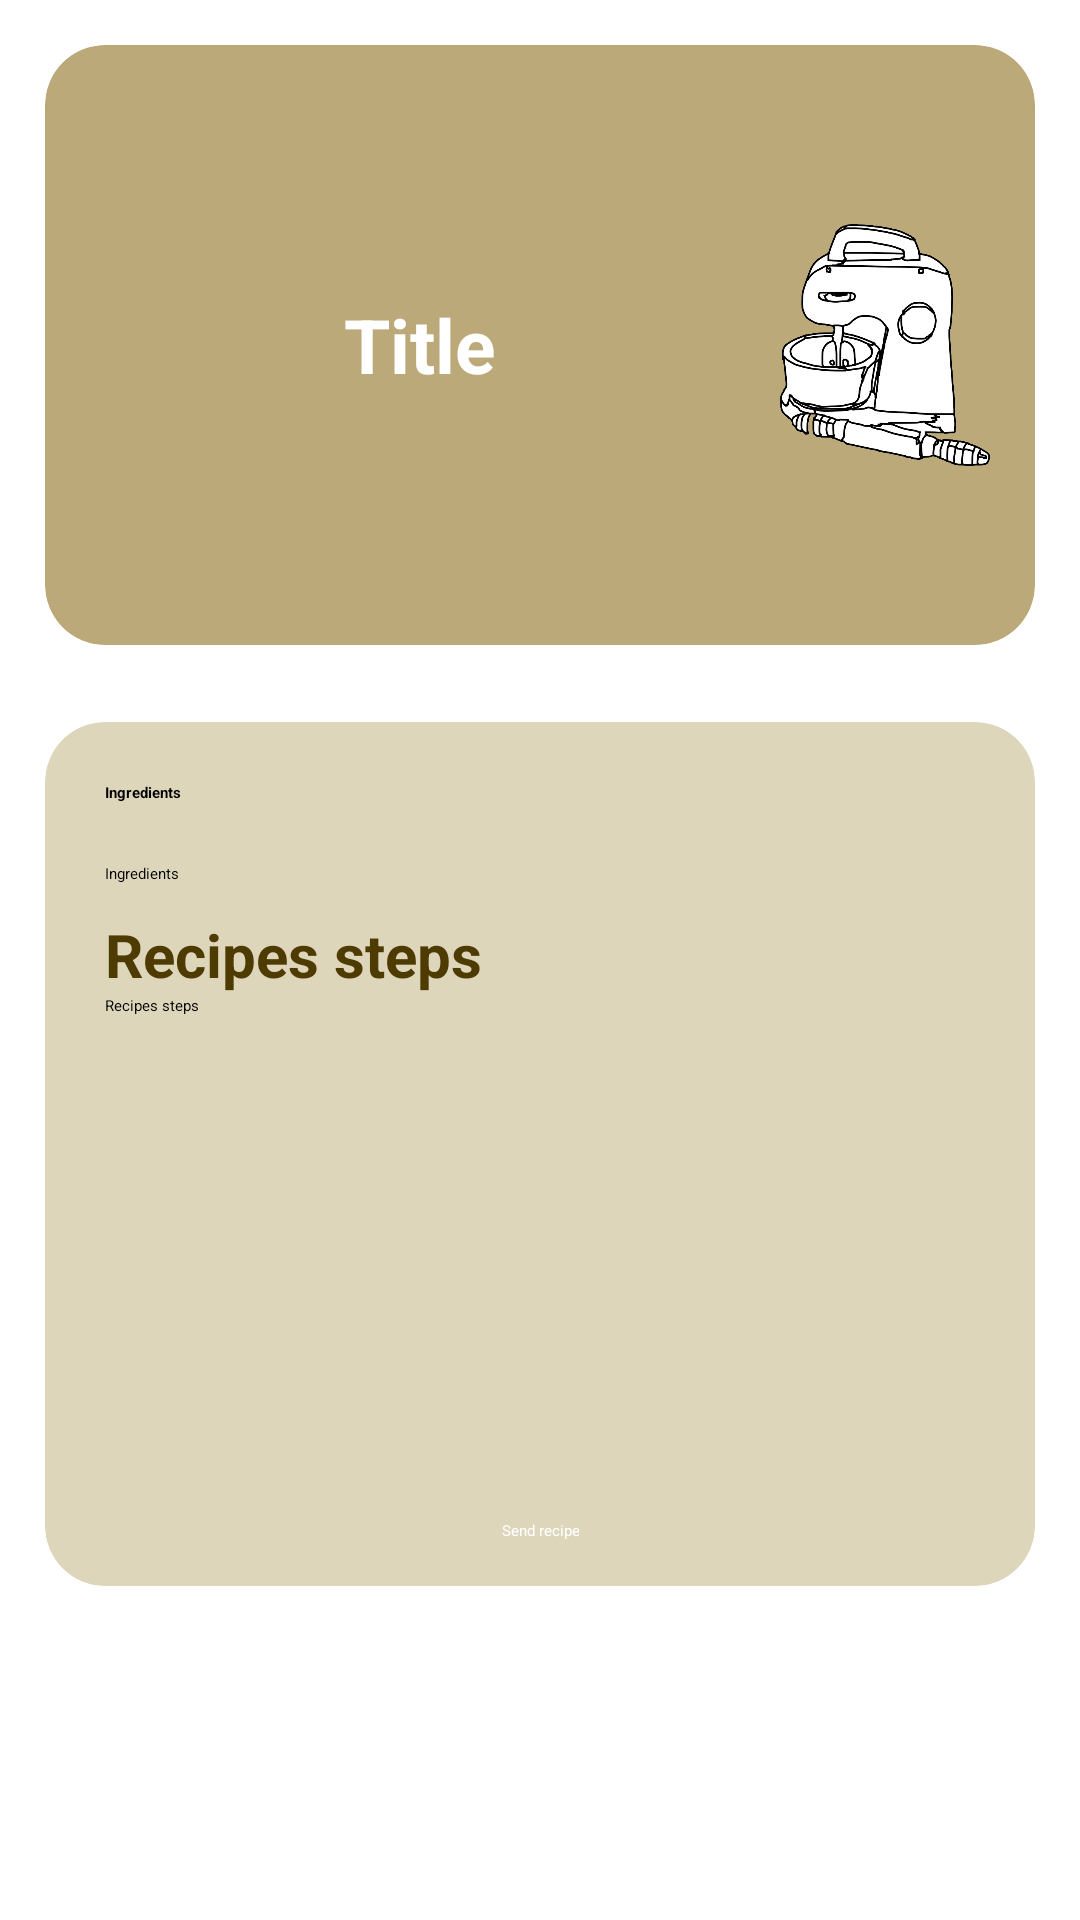

Icons on this 1080px x 1920px Android screen, each with the point to tap as [x,y]:
recipe: [885,345]
